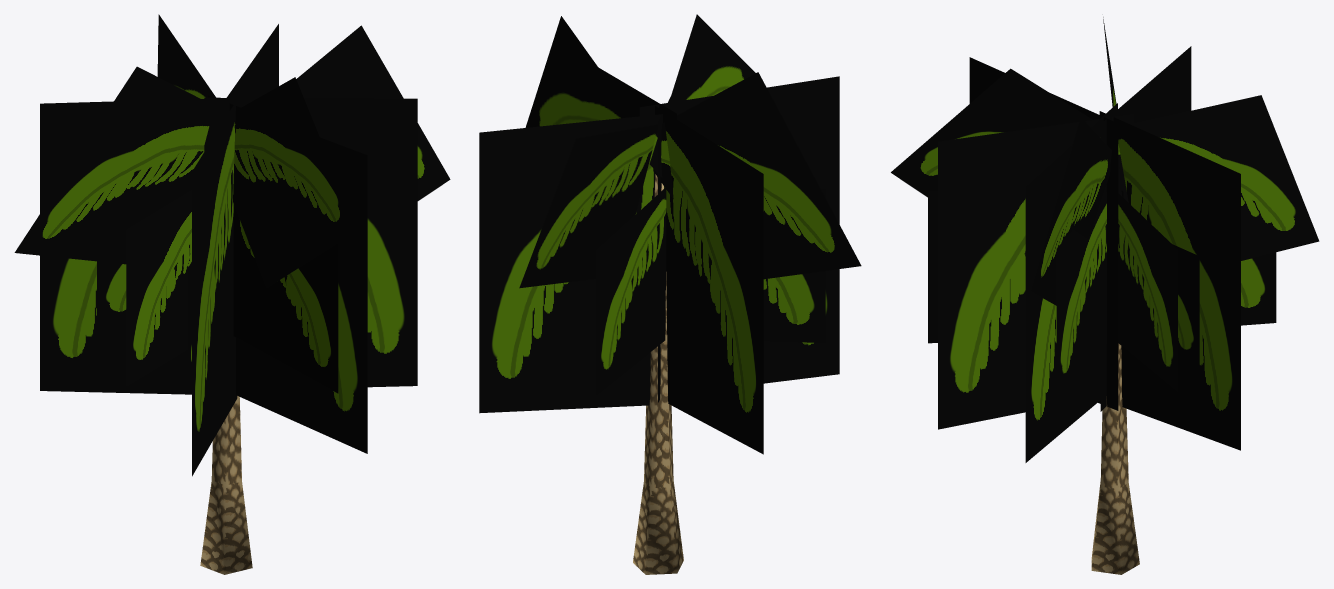
The model's file is palm_tree.glb.
3 renders of one model, left to right at view 1: azimuth 30°, elevation 25°; view 2: azimuth 150°, elevation 25°; view 3: azimuth 270°, elevation 25°, orthographic. The views are drawn at different scales.
Parts seen in each view (by area): view 1: Plane.005; view 2: Plane.005; view 3: Plane.005.
Boxes of the visible parts, bbox=[...] form: Plane.005: bbox=[14, 14, 450, 574]; Plane.005: bbox=[479, 14, 861, 574]; Plane.005: bbox=[891, 17, 1319, 574].
Size of the model in its own units: 6.5 by 8.34 by 6.42.
Materials: 2 (2 with a texture image).
